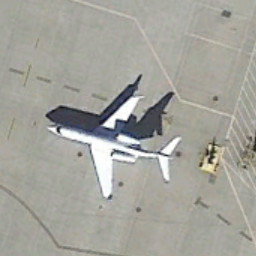Airplane: (38, 82, 192, 207)
